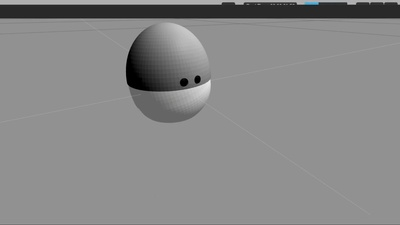mira_robot: (126, 23, 212, 123)
